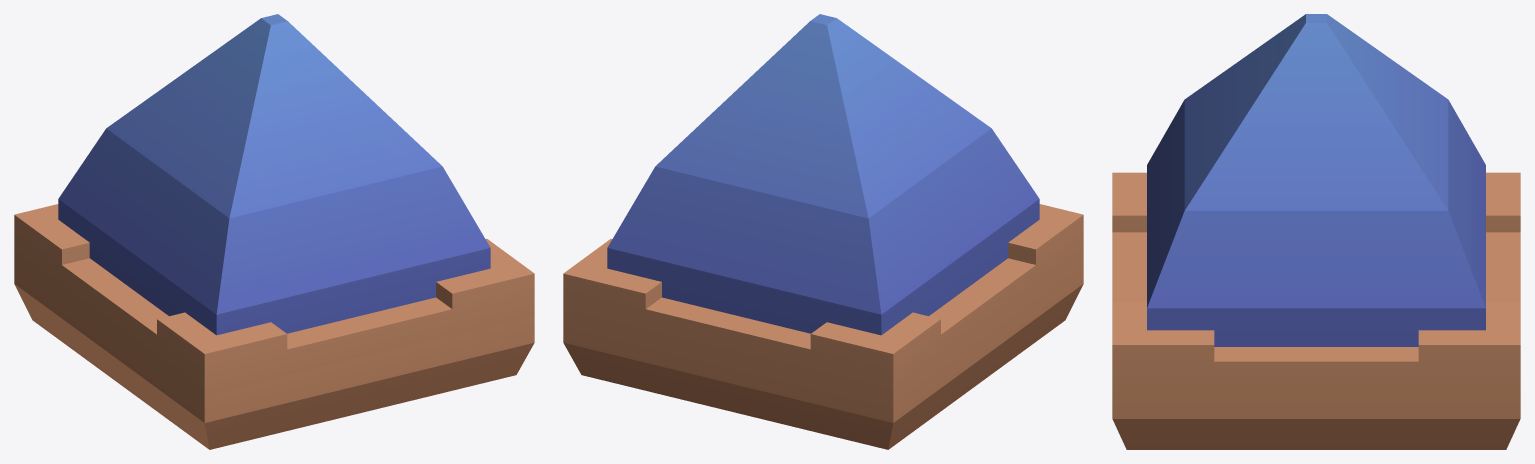
File: kenney-castle-tower-square-top-roof-rounded.glb
3 renders of one model, left to right at view 1: azimuth 30°, elevation 25°; view 2: azimuth 150°, elevation 25°; view 3: azimuth 270°, elevation 25°, orthographic. The views are drawn at different scales.
Visible parts, largest first — view 1: tower-square-top-roof-rounded; view 2: tower-square-top-roof-rounded; view 3: tower-square-top-roof-rounded.
Part boxes in pixels (bbox=[...]): tower-square-top-roof-rounded: bbox=[14, 14, 534, 449]; tower-square-top-roof-rounded: bbox=[563, 14, 1083, 449]; tower-square-top-roof-rounded: bbox=[1112, 14, 1520, 449].
Size of the model in its own units: 1 by 0.9499 by 1.
1 material, 1 textured.
